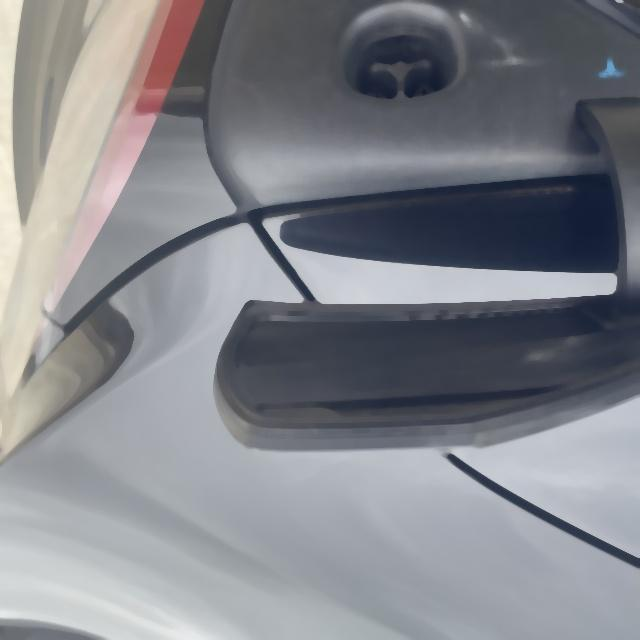Tesla Model-S-: (329, 2, 479, 112)
